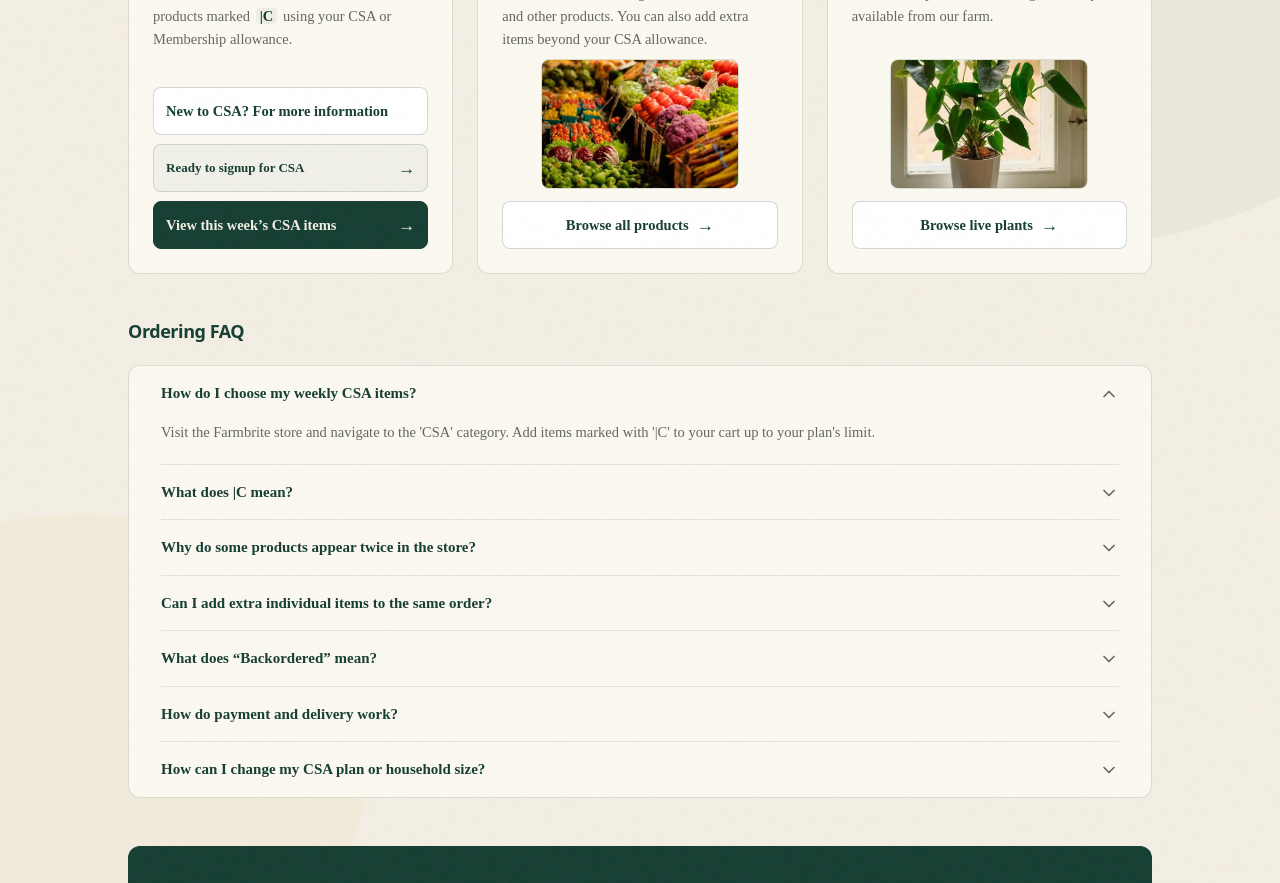
StorePage › opens the first FAQ initially and hides every closed answer from assistive technology
(page scrolled)
Step 1. Click the button "What does |C mean?" → x=227, y=492, box [161,465,1119,519]
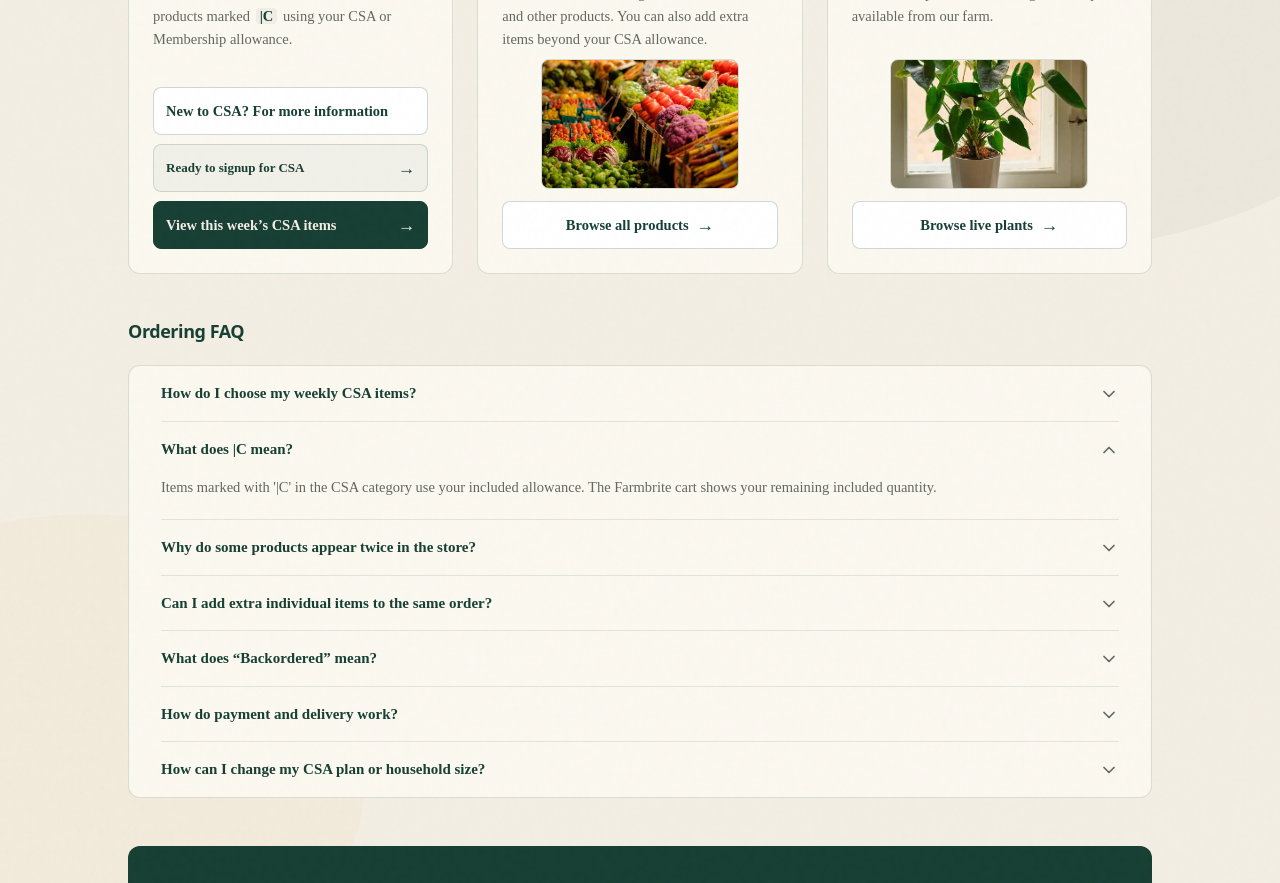
Expected: the text "Items marked with '|C' in the CSA category use your included allowance. The Farmbrite cart shows your remaining included" is shown, [161,479,937,495]
Result: the button "How do I choose my weekly CSA items?" is collapsed at [161,366,1119,421]
Result: the button "What does |C mean?" is expanded at [161,422,1119,476]
